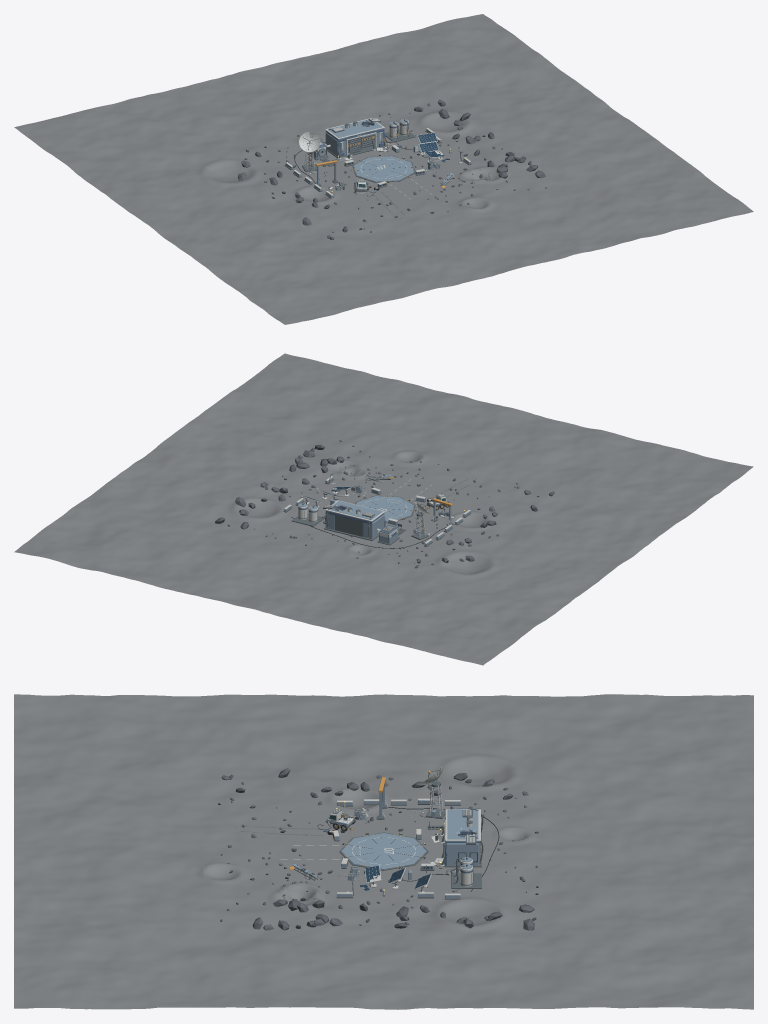
The model's file is MARE07_Game.fbx.
3 renders of one model, top to bottom at view 1: azimuth 30°, elevation 25°; view 2: azimuth 150°, elevation 25°; view 3: azimuth 270°, elevation 25°, orthographic. The views are drawn at different scales.
Parts seen in each view (by area): view 1: MARE07_01, MARE07_03, MARE07_02, MARE07_06, MARE07_07; view 2: MARE07_01, MARE07_03, MARE07_02, MARE07_14; view 3: MARE07_01, MARE07_02, MARE07_03, MARE07_14, MARE07_08, MARE07_06, MARE07_09, MARE07_07.
Boxes of the visible parts, bbox=[...] form: MARE07_01: bbox=[14, 14, 753, 324]; MARE07_03: bbox=[325, 118, 386, 160]; MARE07_02: bbox=[351, 155, 432, 199]; MARE07_06: bbox=[396, 132, 450, 162]; MARE07_07: bbox=[299, 132, 320, 171]; MARE07_01: bbox=[14, 353, 753, 665]; MARE07_03: bbox=[323, 500, 386, 540]; MARE07_02: bbox=[355, 479, 431, 522]; MARE07_14: bbox=[283, 473, 471, 548]; MARE07_01: bbox=[14, 694, 753, 1009]; MARE07_02: bbox=[280, 832, 428, 870]; MARE07_03: bbox=[430, 808, 483, 867]; MARE07_14: bbox=[336, 798, 499, 899]; MARE07_08: bbox=[450, 857, 481, 888]; MARE07_06: bbox=[360, 865, 449, 892]; MARE07_09: bbox=[332, 777, 441, 896]; MARE07_07: bbox=[421, 766, 445, 818].
Bounding box in the file's own units: 17000 × 1414 × 17000.
